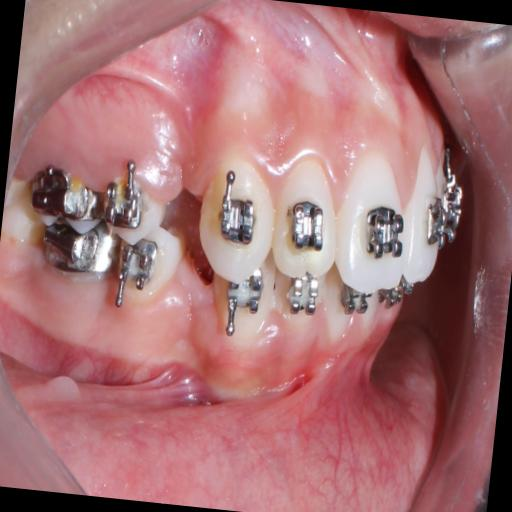correct_brace: (360, 196, 411, 272), (214, 188, 262, 252), (282, 198, 329, 256)
incorrect_brace: (269, 158, 344, 282)
